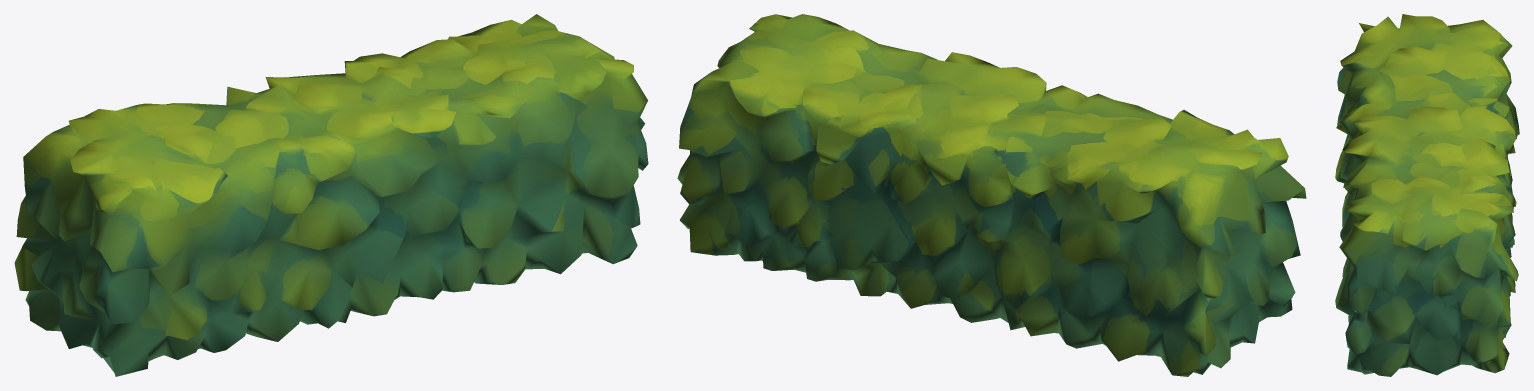
Rendered from hedge-module.glb.
The picture shows the model from 3 angles, left to right: view 1: azimuth 30°, elevation 25°; view 2: azimuth 150°, elevation 25°; view 3: azimuth 270°, elevation 25°; orthographic projection. The views are drawn at different scales.
Visible parts, largest first — view 1: tripo_node_017999d7-2f07-43ab-b09d-b0608bb10528; view 2: tripo_node_017999d7-2f07-43ab-b09d-b0608bb10528; view 3: tripo_node_017999d7-2f07-43ab-b09d-b0608bb10528.
Boxes of the visible parts, x1,y1,x2,y2 form: tripo_node_017999d7-2f07-43ab-b09d-b0608bb10528: (14,14,648,376); tripo_node_017999d7-2f07-43ab-b09d-b0608bb10528: (677,14,1306,376); tripo_node_017999d7-2f07-43ab-b09d-b0608bb10528: (1335,14,1519,376).
Size of the model in its own units: 2 by 0.6693 by 0.7084.
Materials: 1 (1 with a texture image).
